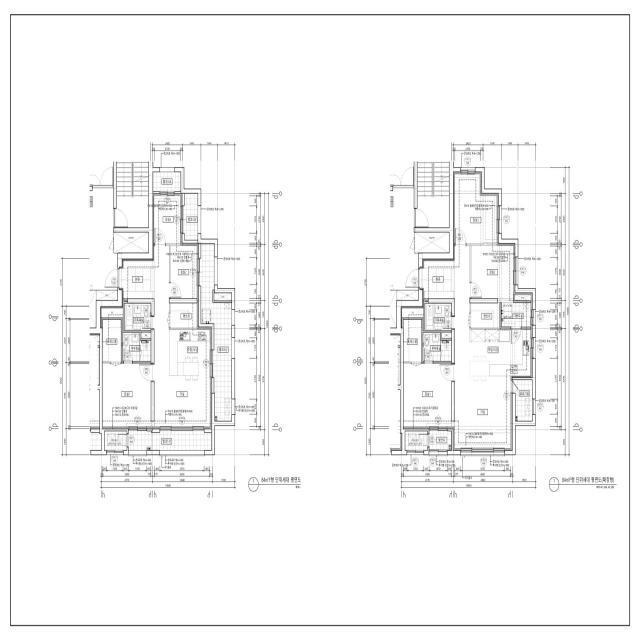space_balconi: (200, 244, 232, 421), (129, 431, 211, 450), (183, 194, 198, 240), (153, 172, 181, 191), (429, 431, 451, 450)
space_bedroom: (403, 364, 452, 429), (454, 172, 498, 243), (103, 364, 151, 429), (471, 243, 515, 298), (171, 243, 198, 298), (153, 193, 182, 243)
space_dressroom: (403, 319, 422, 362), (103, 319, 121, 362)
space_elevator_hall: (89, 187, 118, 290), (390, 187, 418, 290)
space_front: (119, 259, 154, 299), (420, 259, 455, 299)
space_kitchen: (470, 329, 532, 378), (169, 327, 212, 378)
space_living_room: (453, 246, 512, 450), (153, 246, 212, 429)
space_multipurpose_space: (501, 303, 532, 327)
space_other: (414, 232, 449, 253), (471, 303, 500, 328), (114, 232, 148, 253), (170, 303, 198, 328), (105, 431, 127, 450), (405, 431, 427, 450), (401, 307, 424, 318), (101, 307, 123, 318), (96, 290, 118, 300), (397, 290, 418, 300), (214, 293, 232, 301), (515, 293, 532, 301), (141, 332, 151, 338), (442, 332, 451, 338)
space_outdoor_room: (512, 380, 532, 421)
space_staircase: (416, 162, 449, 228), (117, 162, 148, 228)
space_toilet: (122, 333, 151, 361), (423, 333, 451, 361), (124, 303, 151, 331), (425, 303, 451, 331)
